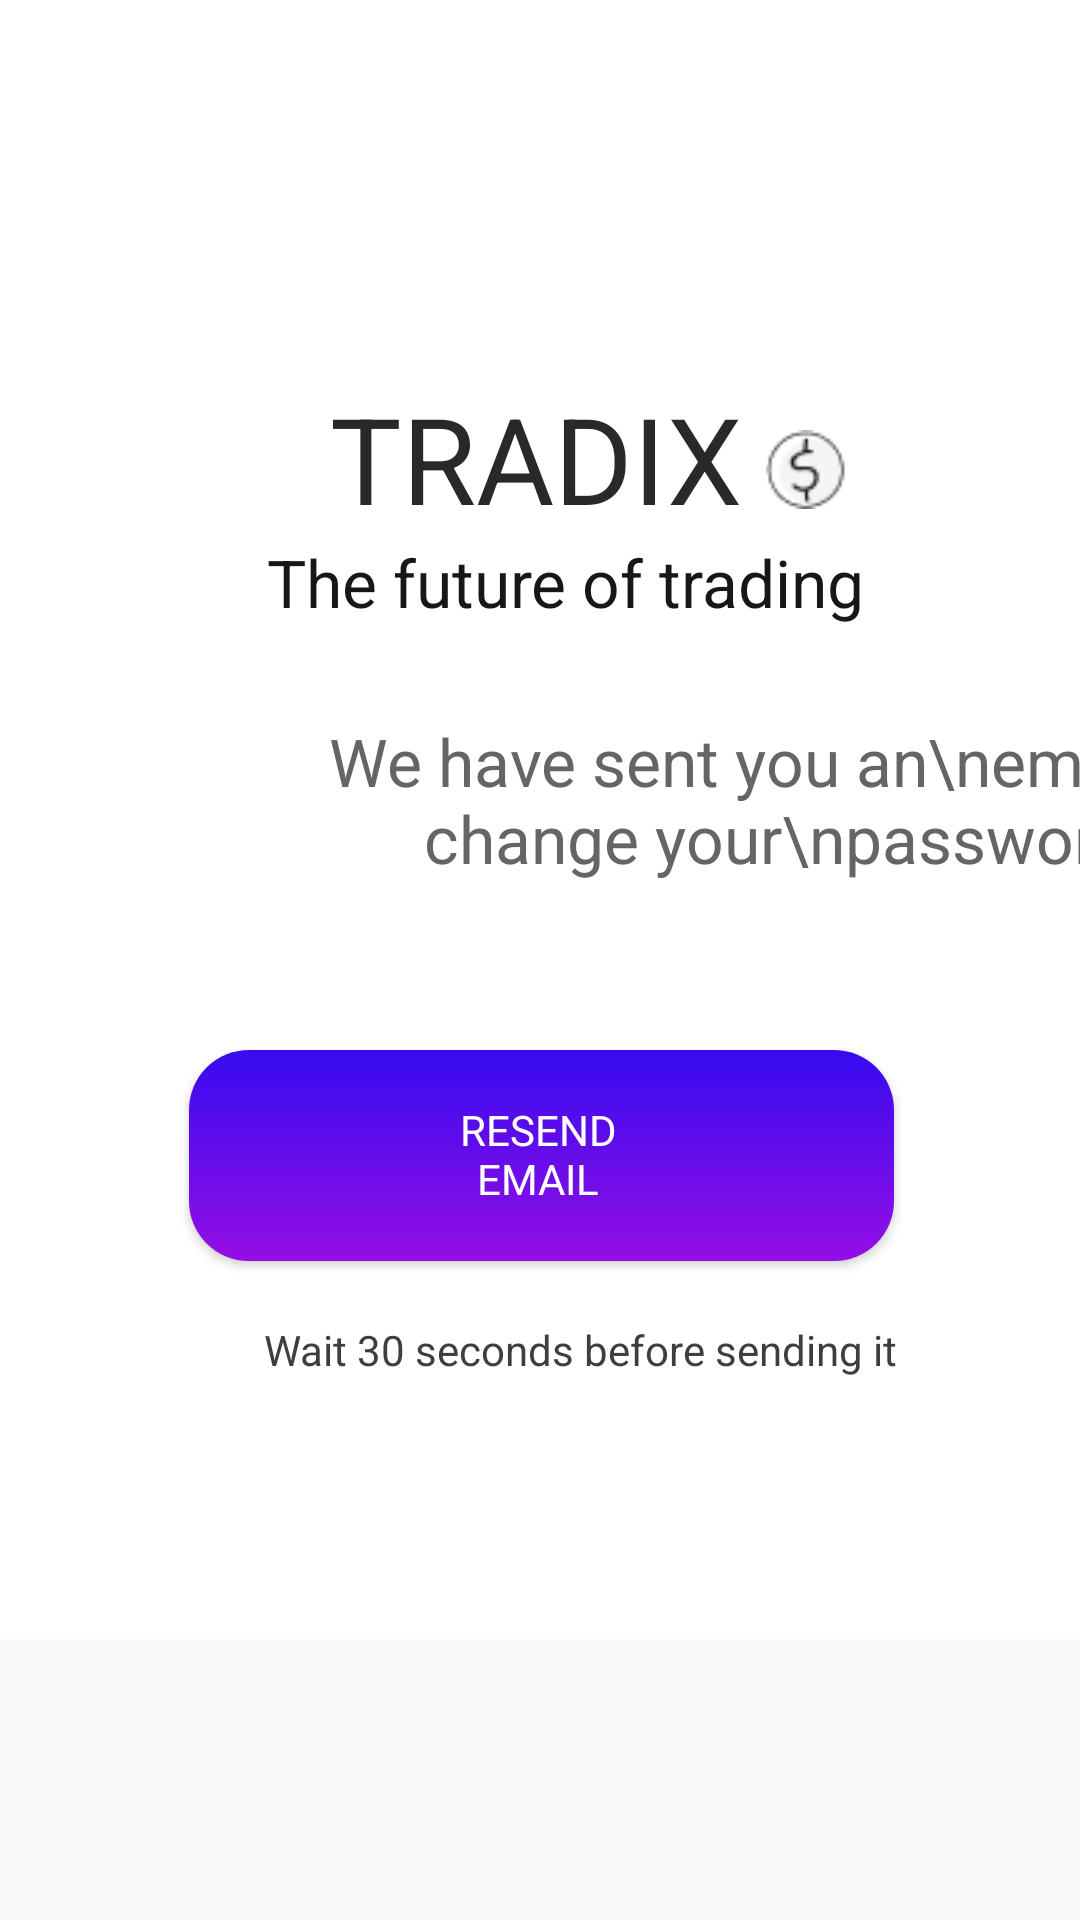

Icon bounding boxes for this 1080 x 1920 phone screenshot, format bbox(x1, y1, x2, y2):
coin: bbox(766, 430, 845, 509)
